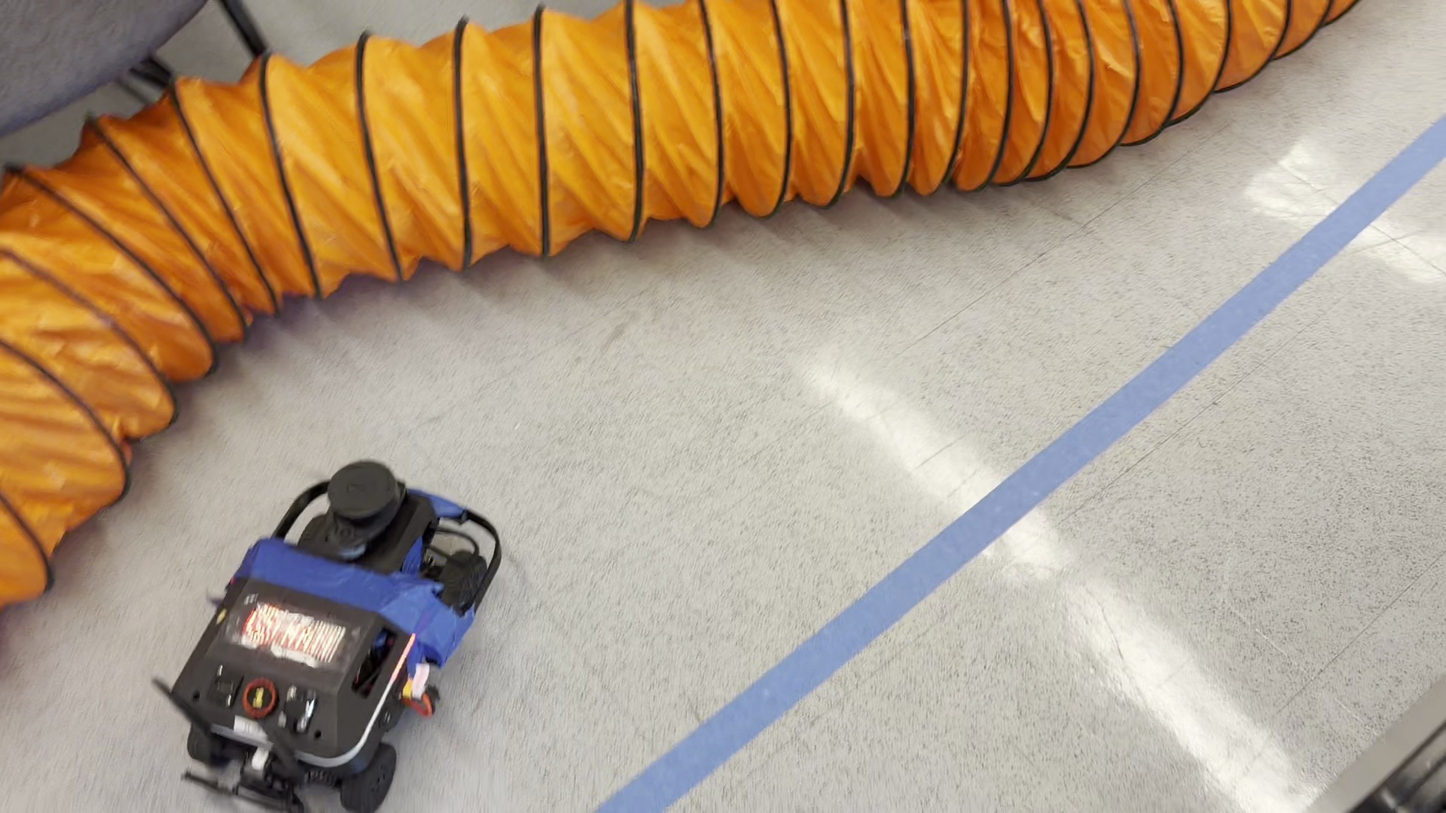racecar: (158, 457, 505, 813)
